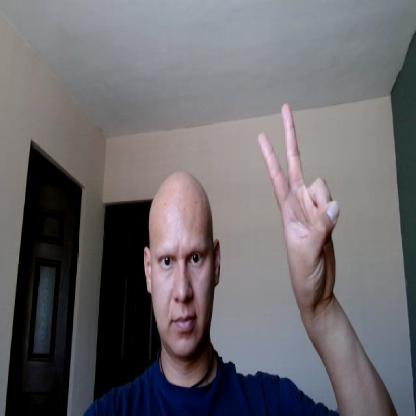V: (258, 101, 341, 306)
